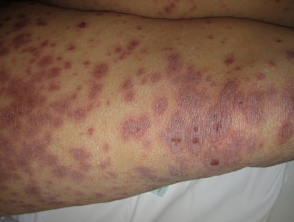SJS-TEN: (0, 2, 294, 217)
